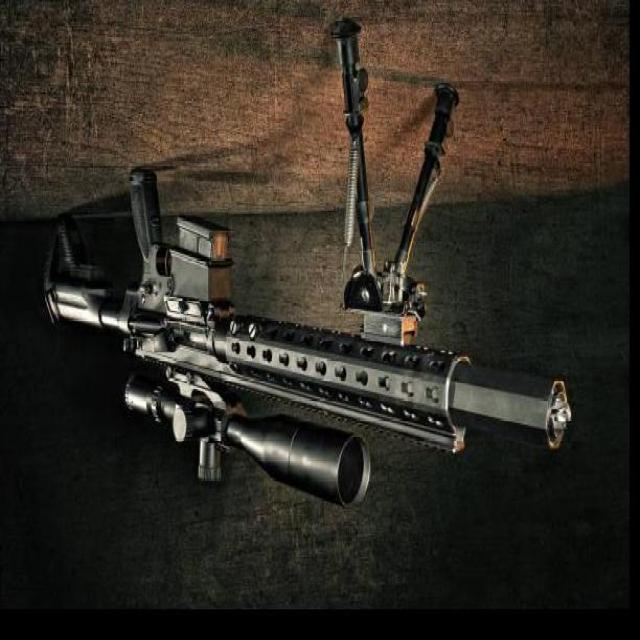weapon: (44, 15, 572, 511)
